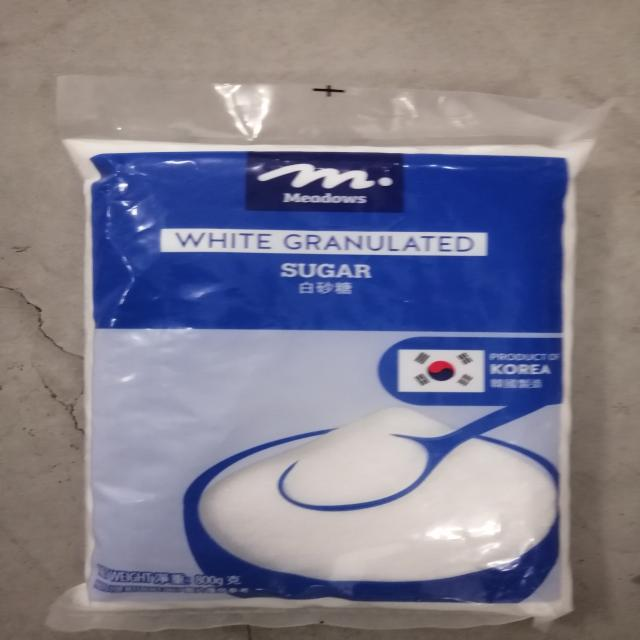object_name: (82, 99, 565, 608)
